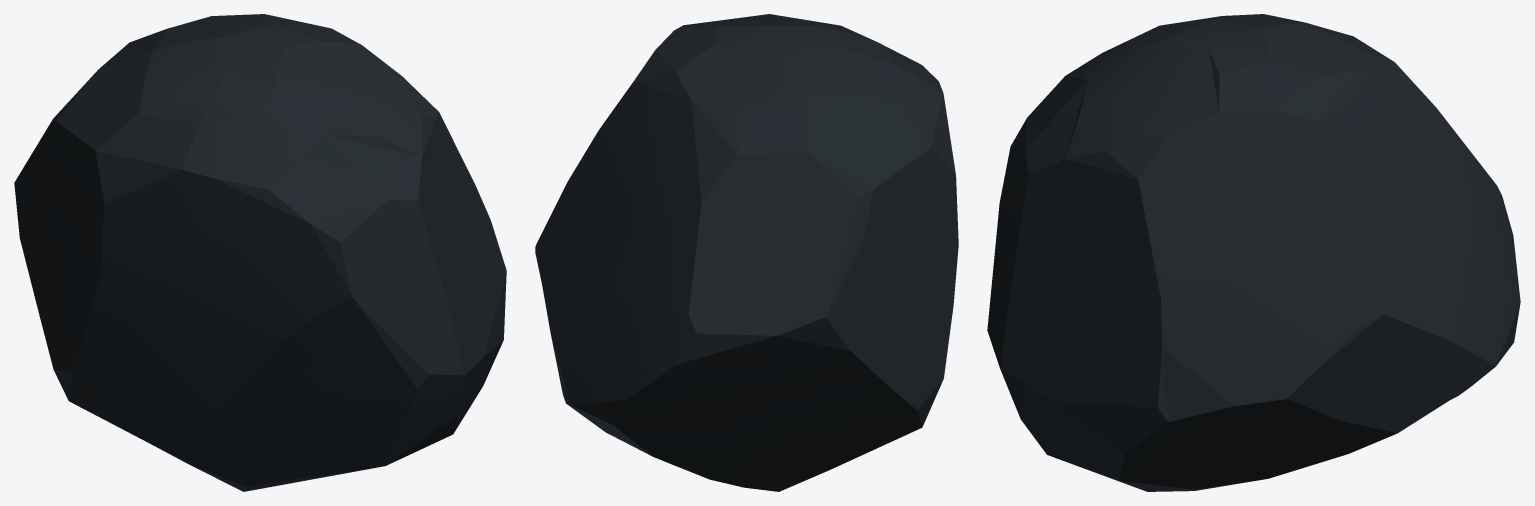
File: Asteroid_s_33.FBX
The picture shows the model from 3 angles, left to right: view 1: azimuth 30°, elevation 25°; view 2: azimuth 150°, elevation 25°; view 3: azimuth 270°, elevation 25°; orthographic projection. The views are drawn at different scales.
Visible parts, largest first — view 1: Asteroid_s_33; view 2: Asteroid_s_33; view 3: Asteroid_s_33.
Boxes of the visible parts, left/top/right/bottom form: Asteroid_s_33: left=14, top=14, right=506, bottom=491; Asteroid_s_33: left=535, top=14, right=958, bottom=491; Asteroid_s_33: left=987, top=14, right=1520, bottom=491.
Bounding box in the file's own units: 134 × 136 × 153.
